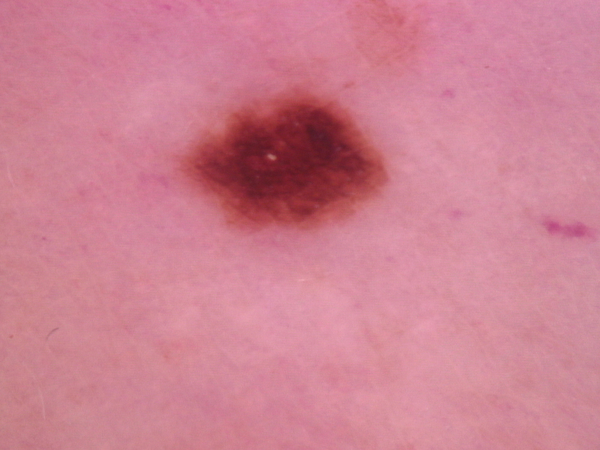Detected Lesion: (175, 85, 393, 240)
